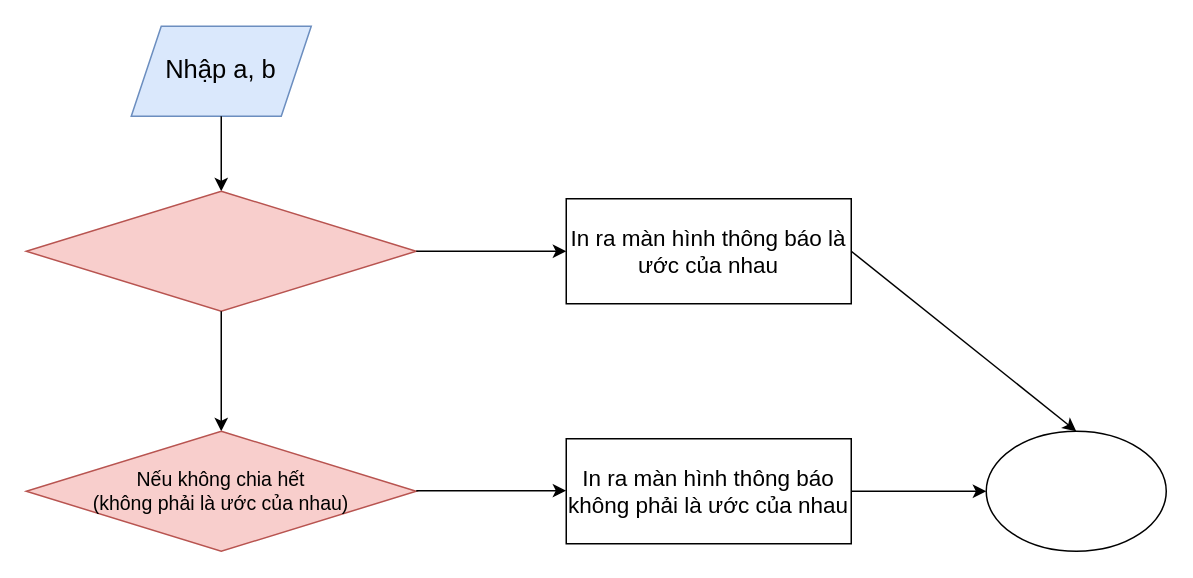
The diagram is 1193 pixels wide and 578 high, and some of its shapes have lost their labels. Here are the shapes that lost their labels. From the top down, the centre of each, then its label:
the point at 220,250: Nếu chia hết (là ước của nhau)
the point at 1075,490: Kết thúc
